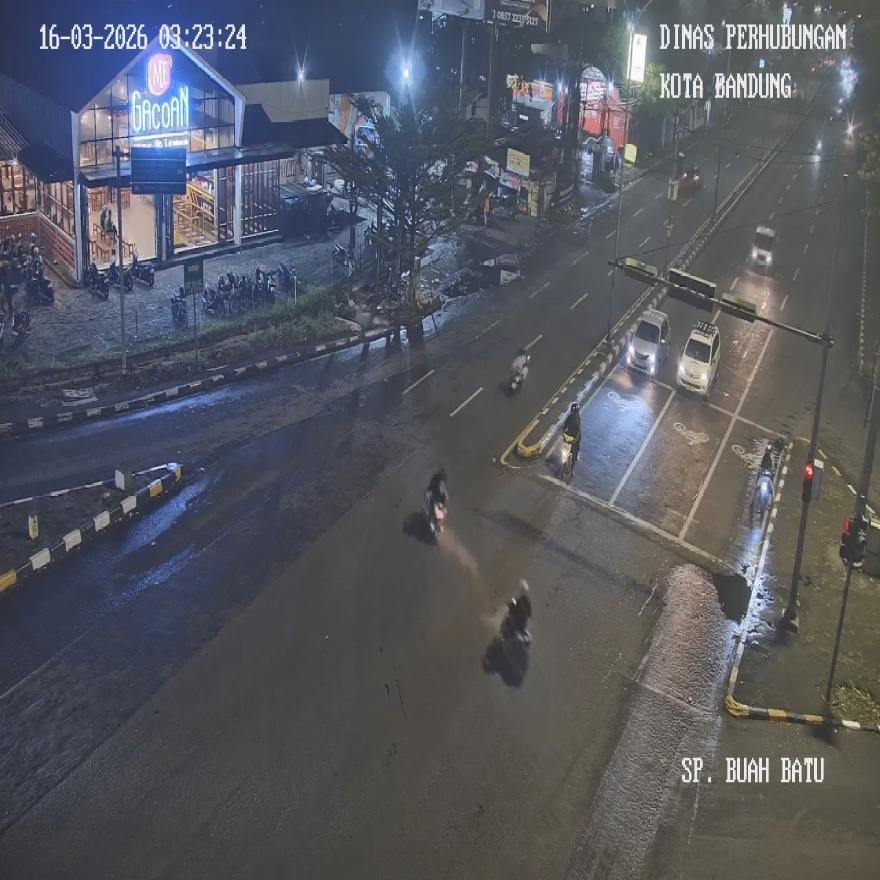Motor: (676, 321, 720, 401), (627, 309, 670, 378)
Truk: (501, 580, 532, 652), (424, 467, 448, 539), (25, 257, 53, 303), (128, 244, 155, 289), (230, 271, 252, 316), (107, 256, 133, 294), (508, 346, 529, 392), (86, 260, 109, 300), (202, 278, 226, 316), (753, 469, 773, 514), (559, 429, 577, 477), (11, 309, 32, 350), (254, 265, 275, 306), (331, 242, 353, 280), (276, 260, 297, 297), (170, 287, 188, 328)
